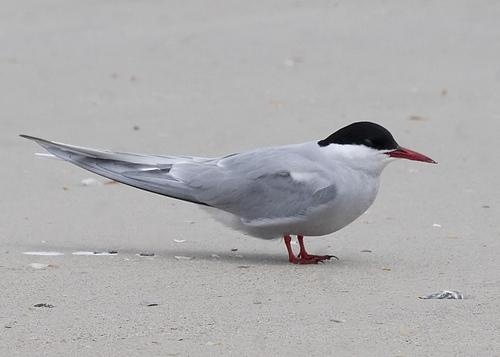bird: (6, 120, 446, 263)
